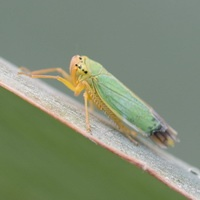insect: (19, 55, 177, 147)
